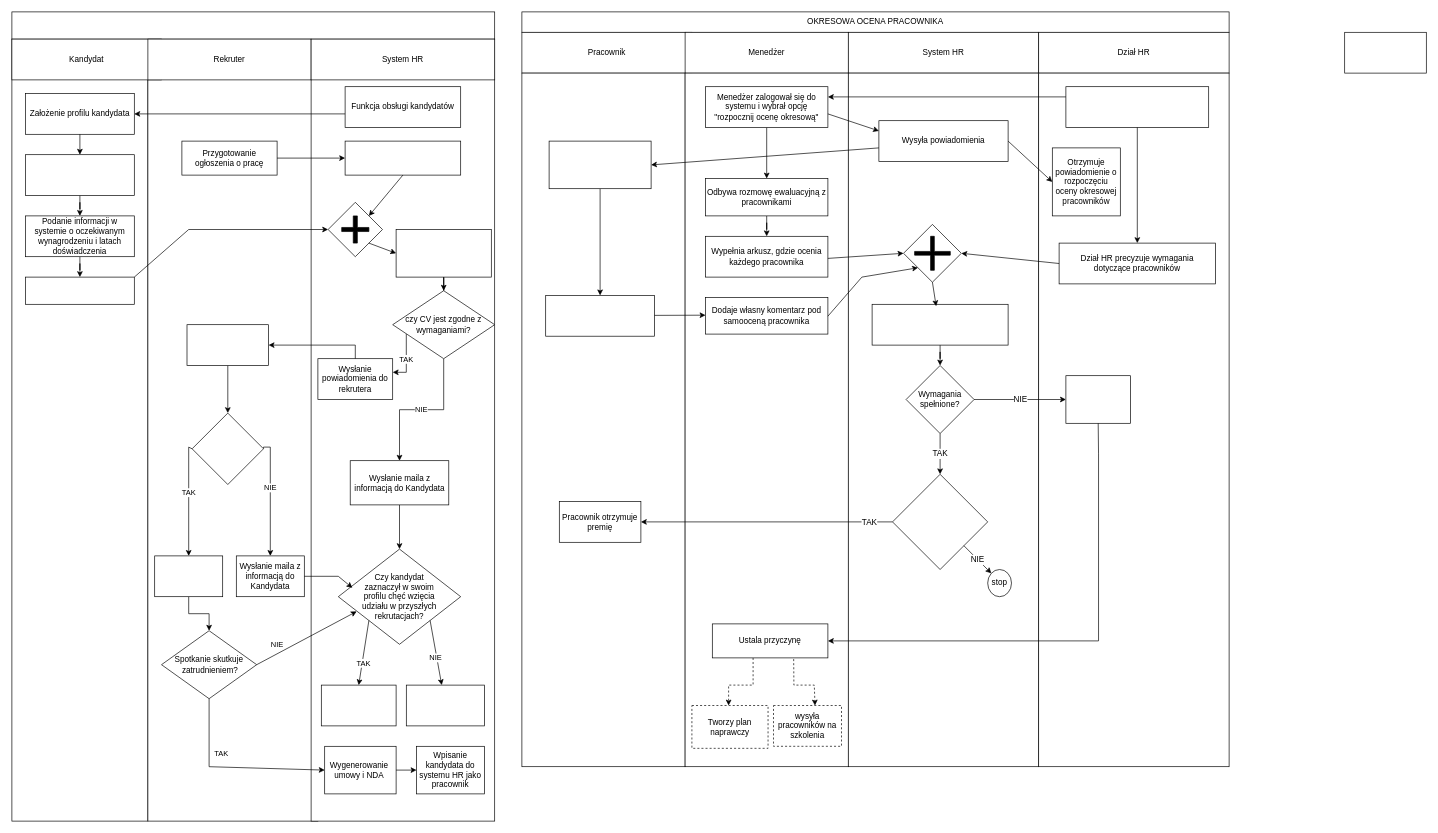
This 1438x833 diagram has some shape labels left out. The centre of each missing label's shape, as x and y in pixels:
"Czy ocena spełnia kryterium przyznania premii?" belongs at (940,522).
"Czy pozytywna opinia?" belongs at (227,448).
"Dział HR powiadamia menedżera" belongs at (1097,399).
"Dział HR wymaga okresowej oceny pracowników." belongs at (1137,107).
"Ogłoszenie umieszczone w systemie" belongs at (402,157).
"Otrzymuje powiadomienie i prośbę o wypełnienie arkusza samooceny" belongs at (599,164).
"PROCES REKRUTACJI" belongs at (253,25).
"Przelicza zebrane dane i sprawdza czy są spełnione wymagania HR" belongs at (939,324).
"Przeniesienie CV do bazy kandydatów" belongs at (358,705).
"Przesłanie CV" belongs at (79,290).
"usunięcie CV" belongs at (445,705).
"Weryfikacja CV przez rekrutera" belongs at (227,345).
"Wstępne automatyczne sprawdzenie CV w kontekście wymagań oferty pracy" belongs at (443,253).
"Wypełnia arkusz i przesyła go do menadżera" belongs at (599,315).
"Zaakceptowanie regulaminu systemu rekrutacji" belongs at (79,175).
"Zaproszenie na spotkanie rekrutacyjne" belongs at (188,576).
